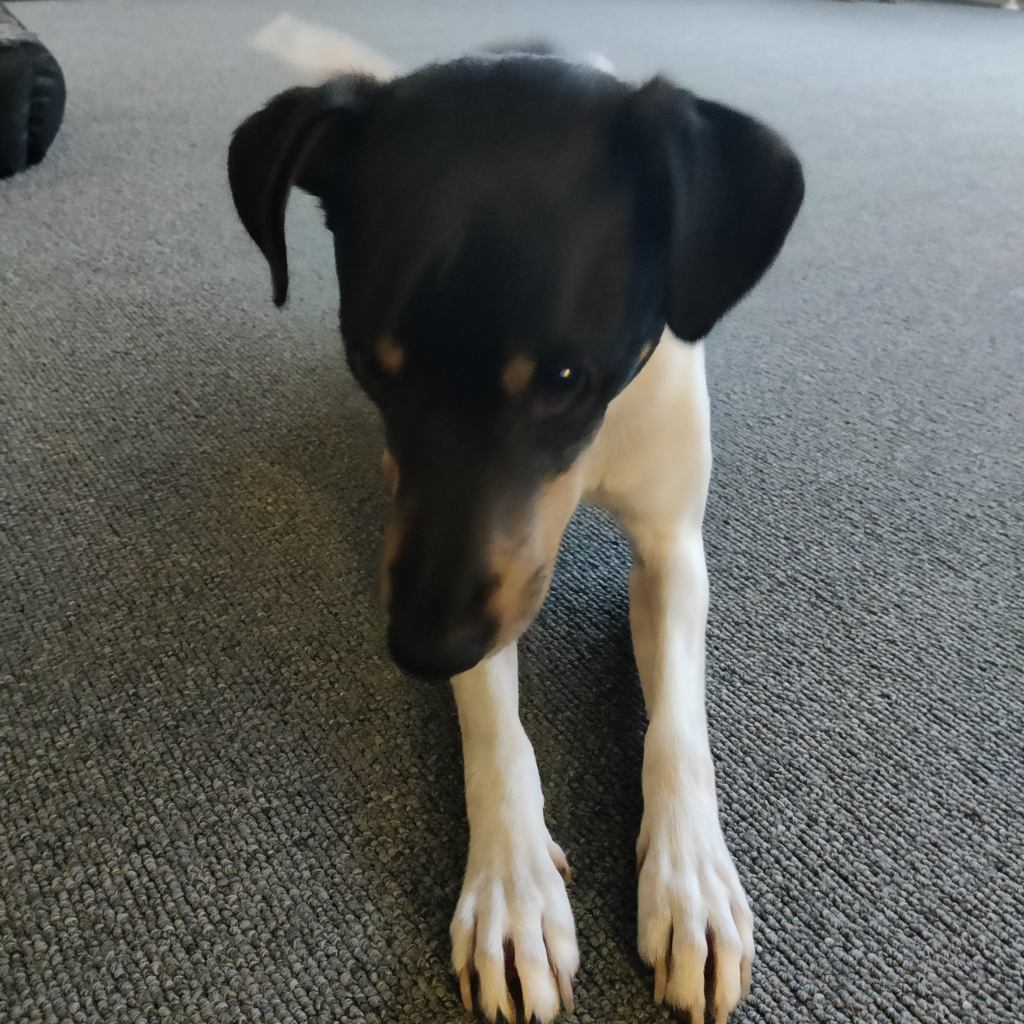Dog: (193, 0, 861, 1024)
